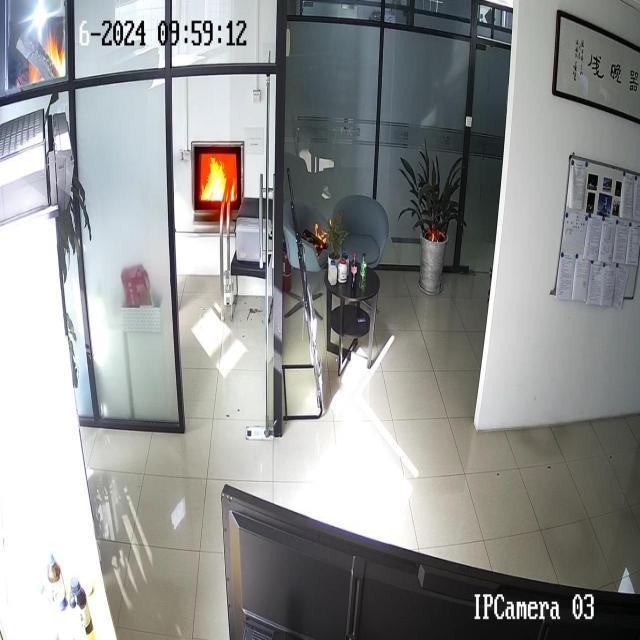smoke: (195, 150, 229, 204), (40, 24, 62, 82), (310, 222, 334, 260), (422, 224, 442, 252)
